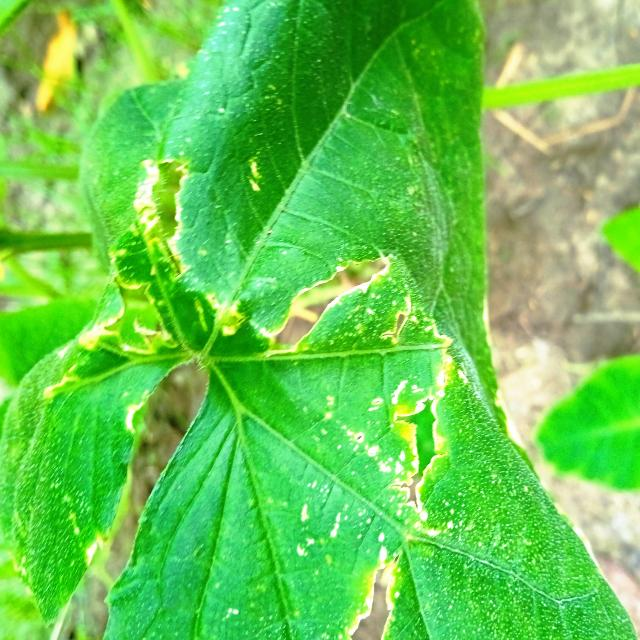Anthracnose: (261, 249, 401, 362), (393, 386, 451, 515), (346, 548, 406, 640)
